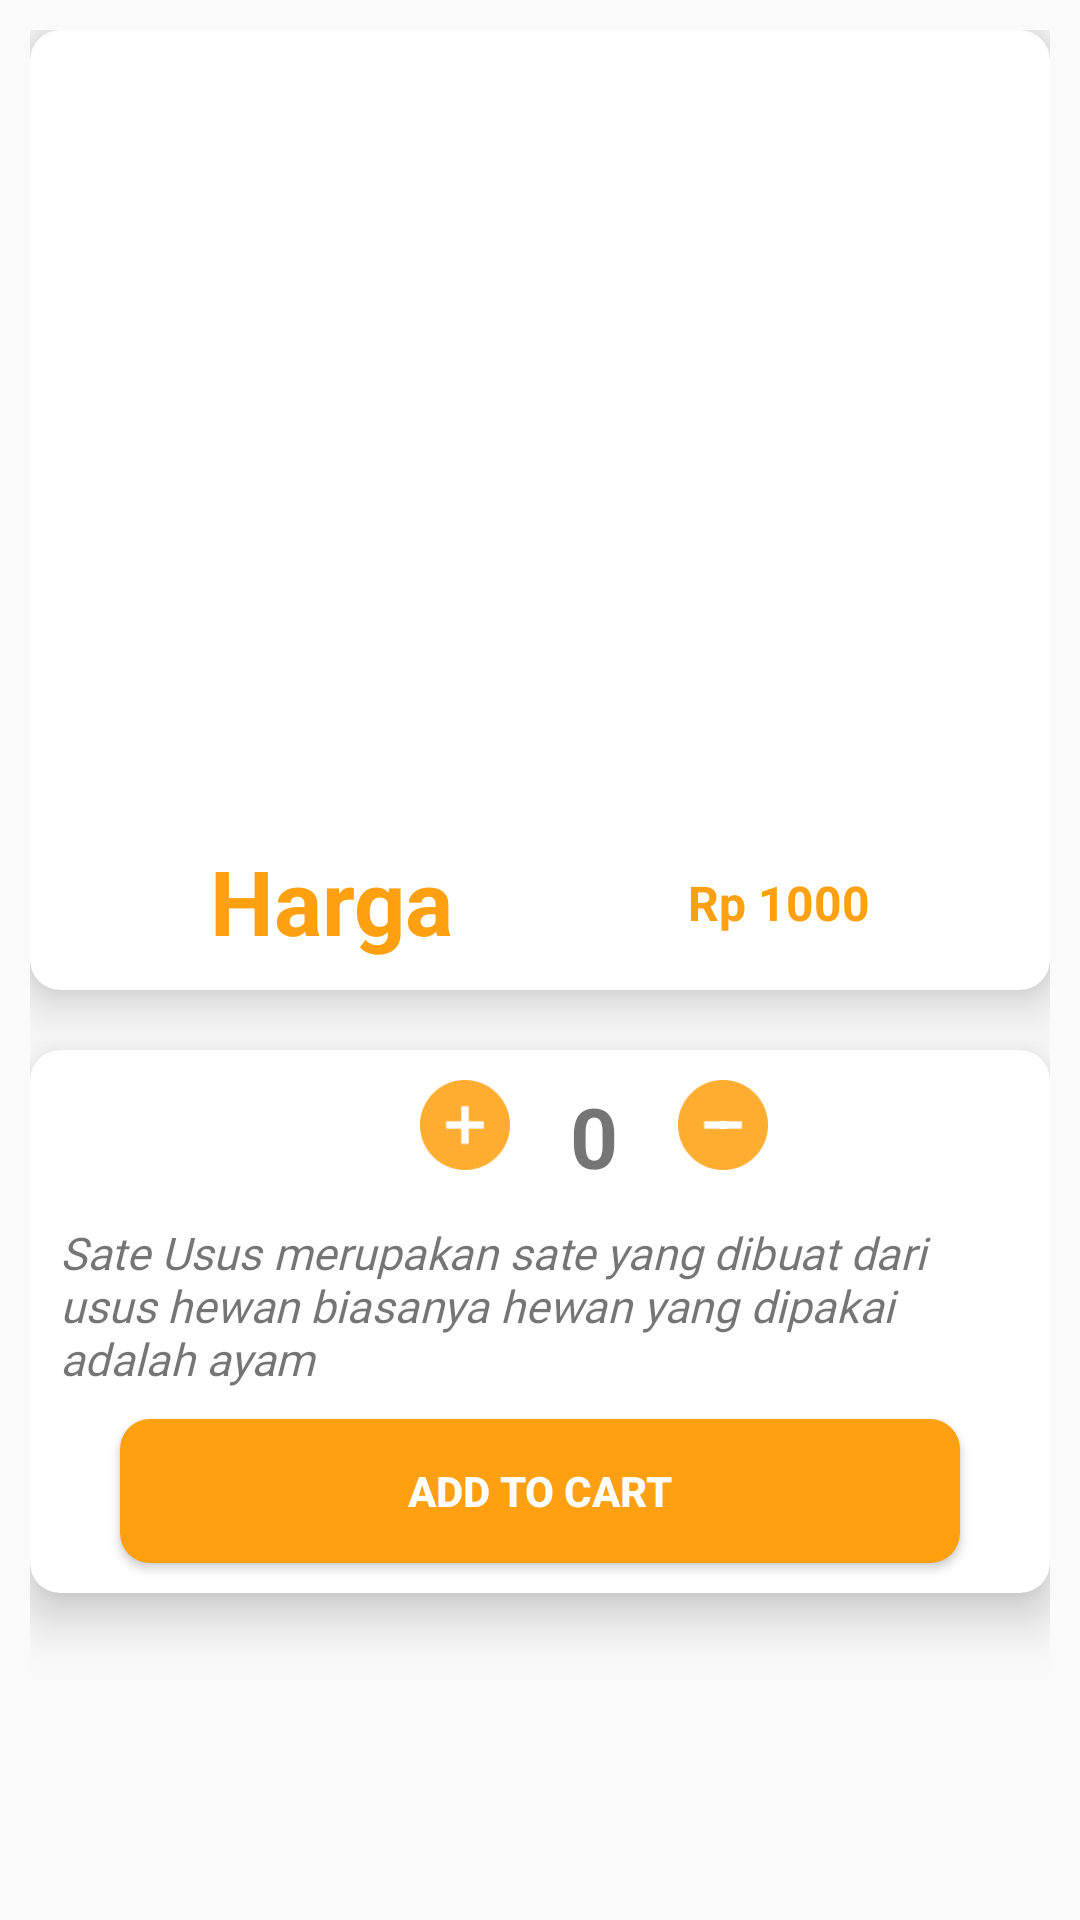

Where icons sit on this 1080px×1920px app screen, as (x1, y1, x2, y2):
minus: (678, 1080, 768, 1170)
plus: (420, 1080, 510, 1170)
